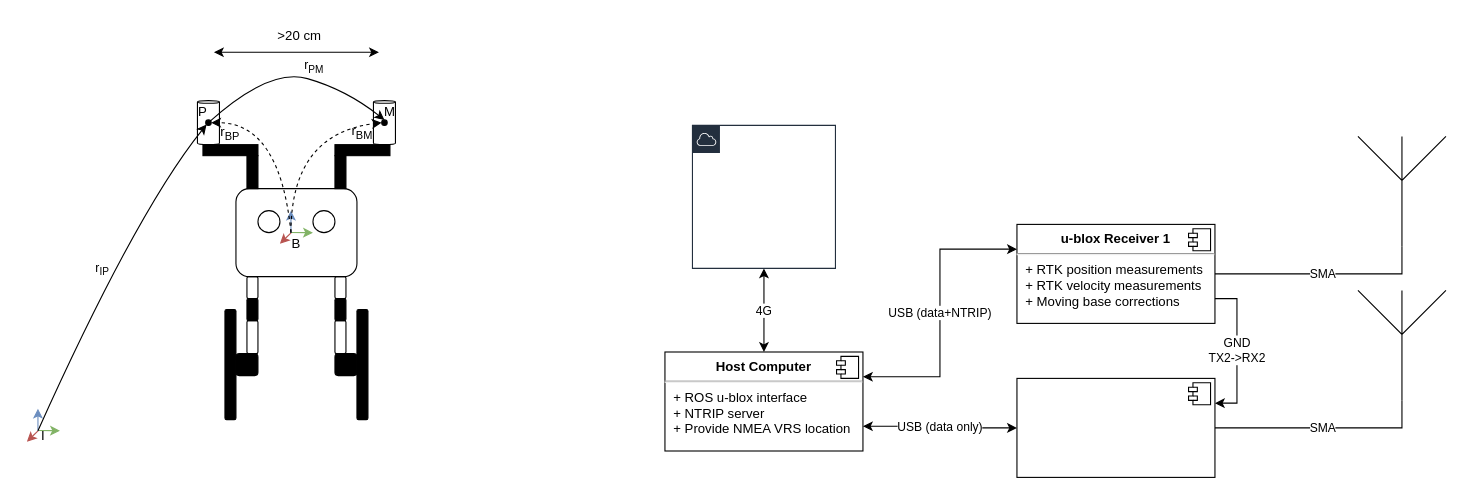
The diagram is 1465 pixels wide and 496 high, and some of its shapes have lost their labels. Here are the shapes that lost their labels. From the top down, the centre of each, then its label:
At (763,196): "swipos-GIS/GEO + NTRIP caster".
At (1115,427): "u-blox Receiver 2 + RTK moving baseline vector (heading)".
